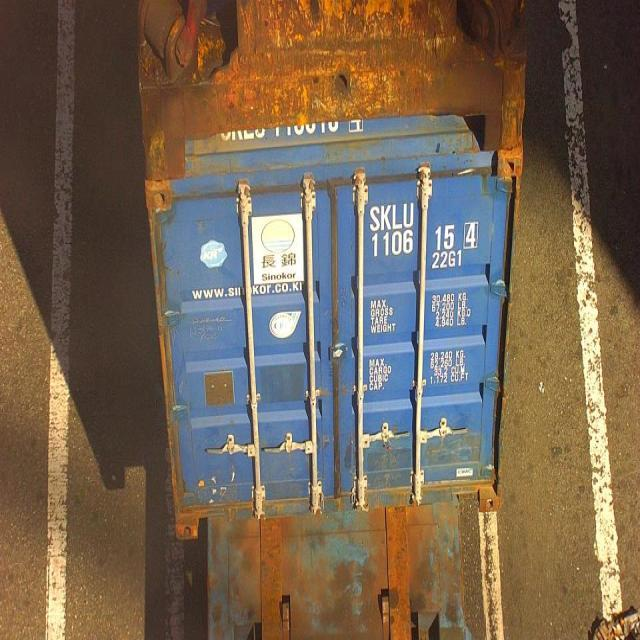ISO: (430, 252, 462, 270)
container_number: (370, 205, 480, 252)
